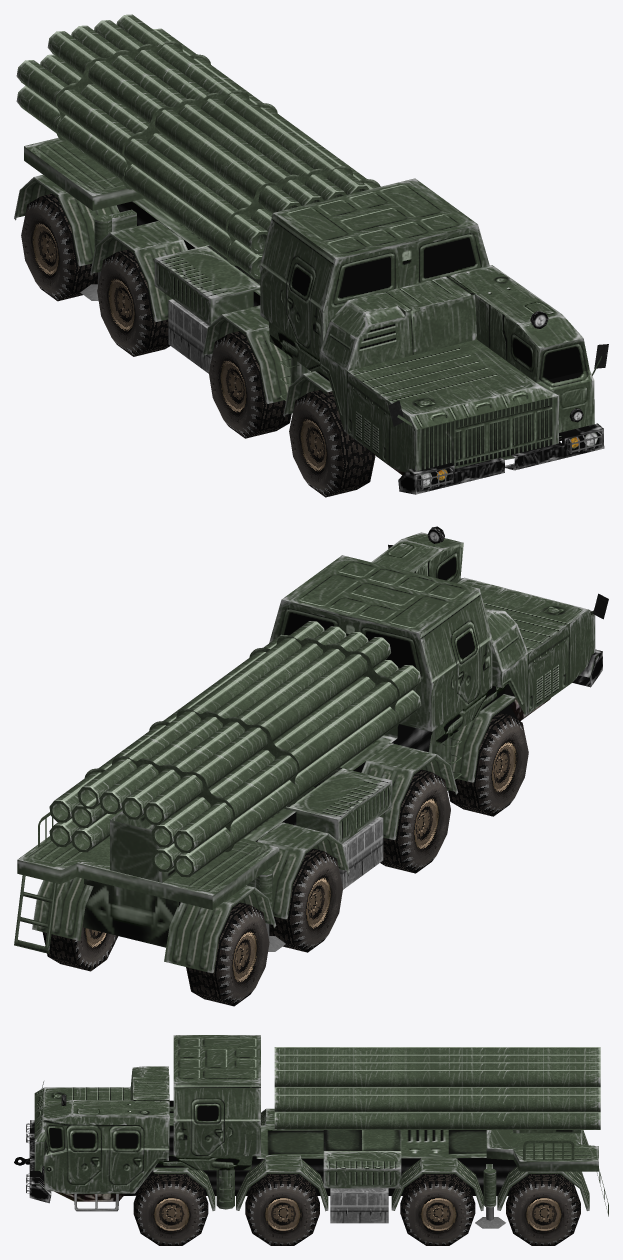
File: smerch.FBX
3 renders of one model, top to bottom at view 1: azimuth 30°, elevation 25°; view 2: azimuth 150°, elevation 25°; view 3: azimuth 270°, elevation 25°, orthographic. The views are drawn at different scales.
Visible parts, largest first — view 1: Object03, stvoli, Cylinder008, Cylinder04, Cylinder03, Cylinder006, plato; view 2: Object03, stvoli, plato, Cylinder006, Cylinder008, Cylinder03, Cylinder04, Cylinder005; view 3: Object03, stvoli, Cylinder02, Cylinder007, Cylinder01, Cylinder005, plato.
Part boxes in pixels (box(x1,y1,x2,y2)): Object03: box(14, 175, 608, 494); stvoli: box(16, 14, 380, 279); Cylinder008: box(289, 390, 375, 497); Cylinder04: box(208, 331, 291, 438); Cylinder03: box(97, 249, 170, 356); Cylinder006: box(21, 193, 97, 301); plato: box(24, 137, 144, 210); Object03: box(32, 526, 608, 973); stvoli: box(49, 621, 421, 877); plato: box(14, 811, 279, 953); Cylinder006: box(186, 902, 269, 1006); Cylinder008: box(448, 712, 528, 816); Cylinder03: box(269, 848, 342, 952); Cylinder04: box(380, 769, 450, 873); Cylinder005: box(42, 922, 118, 971); Object03: box(14, 1035, 589, 1228); stvoli: box(274, 1047, 600, 1129); Cylinder02: box(400, 1174, 475, 1245); Cylinder007: box(133, 1174, 208, 1245); Cylinder01: box(245, 1174, 319, 1245); Cylinder005: box(506, 1174, 580, 1245); plato: box(486, 1130, 608, 1216).
Bounding box in the file's own units: 52.07 × 50.75 × 172.
